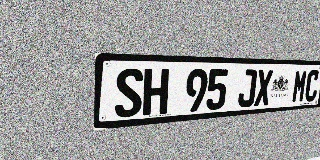5: (206, 69, 228, 110)
9: (185, 69, 208, 112)
C: (304, 70, 320, 102)
H: (142, 69, 169, 116)
J: (237, 69, 257, 108)
M: (291, 70, 308, 103)
S: (115, 68, 143, 118)
X: (254, 70, 273, 106)
